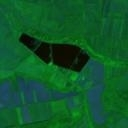alloviz: (18, 31, 91, 74)
